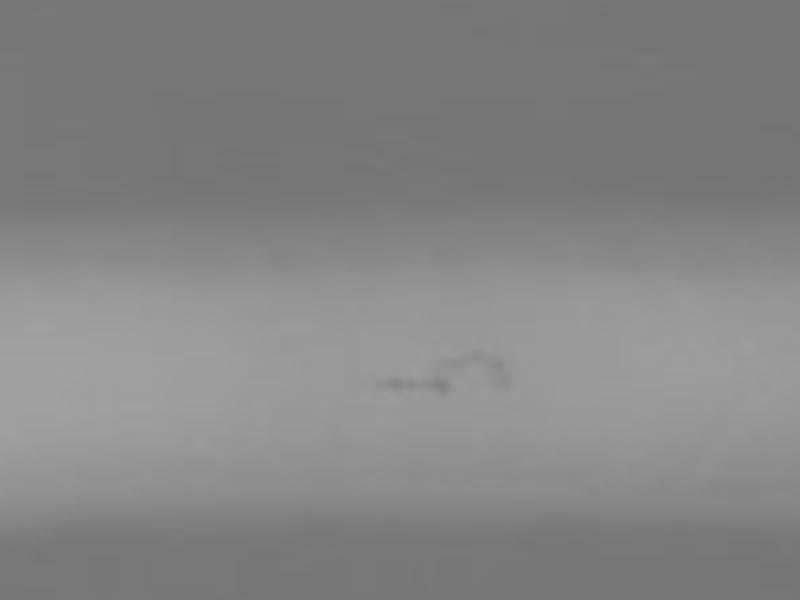defect: (384, 373, 450, 396), (485, 352, 512, 393), (439, 347, 467, 379)
